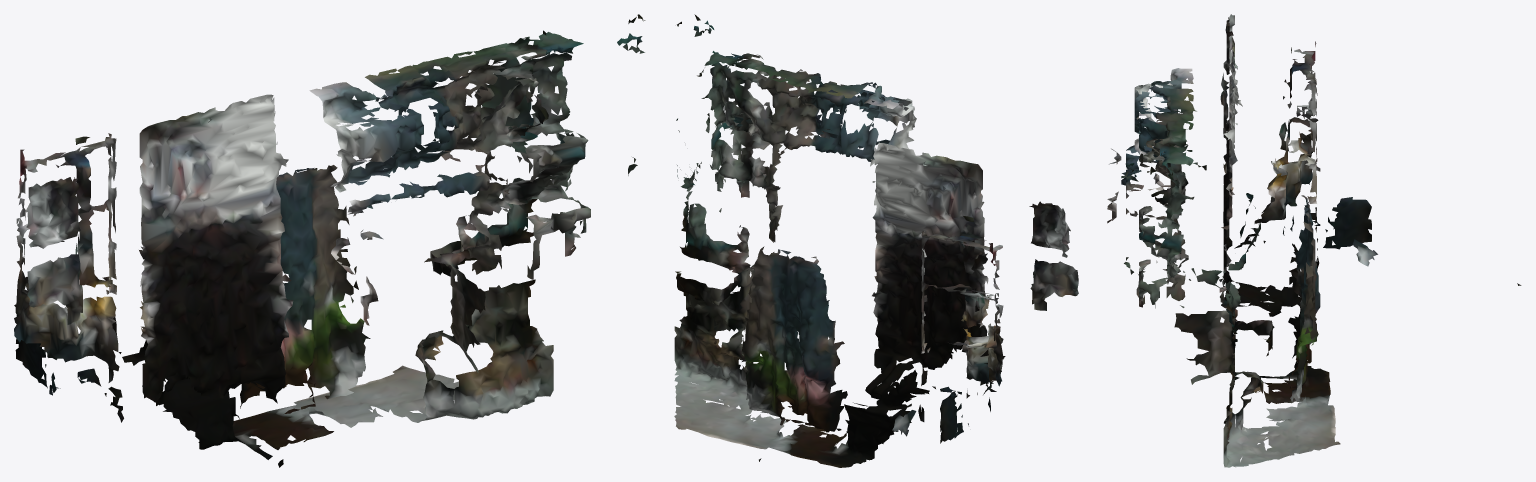
3 views of the same model, side by side, from view 1: azimuth 30°, elevation 25°; view 2: azimuth 150°, elevation 25°; view 3: azimuth 270°, elevation 25° (orthographic). The views are drawn at different scales.
Bounding box in the file's own units: 2.97 × 2.13 × 2.41.
